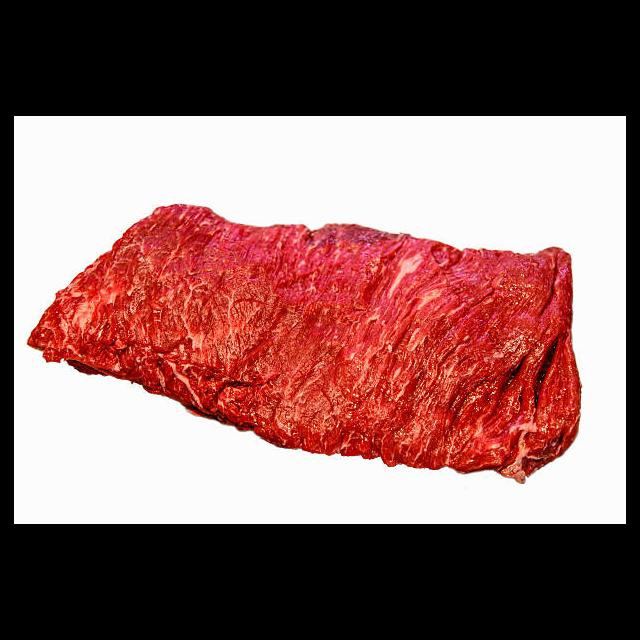beef: (25, 201, 583, 483)
